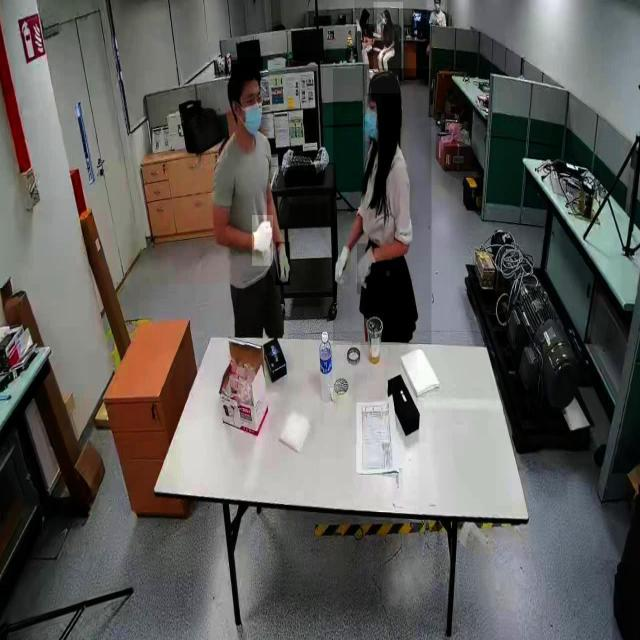face_mask: (238, 97, 264, 139), (364, 96, 382, 141), (434, 0, 442, 17)
hand_glove: (252, 215, 274, 267), (357, 244, 375, 295), (335, 245, 351, 287), (276, 242, 290, 286)
head_nohelmet: (224, 57, 264, 82), (367, 70, 400, 94), (360, 7, 370, 16), (382, 8, 390, 16)
person: (333, 68, 432, 346), (208, 54, 288, 353), (374, 2, 404, 69), (354, 0, 377, 69), (427, 0, 448, 26)
